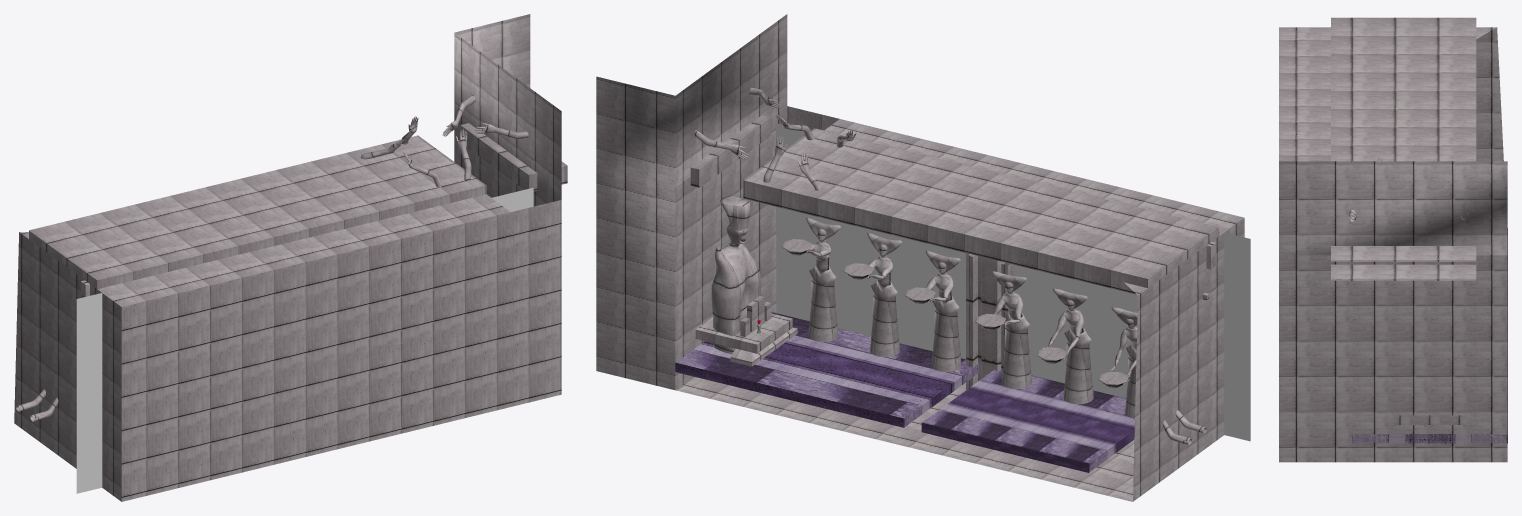
File: Capilla_assets.fbx
The picture shows the model from 3 angles, left to right: view 1: azimuth 30°, elevation 25°; view 2: azimuth 150°, elevation 25°; view 3: azimuth 270°, elevation 25°; orthographic projection. The views are drawn at different scales.
Parts seen in each view (by area): view 1: Capilla_background, Capilla_bloque_techo, Capilla_Fondonegro, Capilla_bloque; view 2: Capilla_background, Capilla_bloque_techo, Capilla_Fondonegro, Capilla_bloque_suelo.001, Capilla_bloque_suelo, Capilla_Abadesa, Capilla_ArcoAncho, Capilla_altar, Capilla_monja.005, Capilla_monja.004, Capilla_monja.003, Capilla_monja.002 (+3 smaller); view 3: Capilla_background, Capilla_bloque_techo, Capilla_bloque, Capilla_bloque_suelo.001, Capilla_altar.
Boxes of the visible parts, x1,y1,x2,y2 form: Capilla_background: [14, 14, 561, 501]; Capilla_bloque_techo: [29, 135, 486, 289]; Capilla_Fondonegro: [76, 187, 533, 493]; Capilla_bloque: [460, 123, 567, 191]; Capilla_background: [596, 14, 1244, 501]; Capilla_bloque_techo: [743, 128, 1219, 294]; Capilla_Fondonegro: [775, 123, 1250, 441]; Capilla_bloque_suelo.001: [675, 312, 978, 427]; Capilla_bloque_suelo: [921, 370, 1134, 472]; Capilla_Abadesa: [711, 196, 761, 354]; Capilla_ArcoAncho: [965, 253, 1013, 389]; Capilla_altar: [695, 296, 797, 366]; Capilla_monja.005: [1041, 288, 1093, 404]; Capilla_monja.004: [867, 233, 902, 356]; Capilla_monja.003: [925, 250, 961, 371]; Capilla_monja.002: [982, 271, 1031, 389]; Capilla_background: [1279, 27, 1507, 462]; Capilla_bloque_techo: [1331, 17, 1476, 161]; Capilla_bloque: [1331, 246, 1476, 280]; Capilla_bloque_suelo.001: [1352, 320, 1507, 443]; Capilla_altar: [1393, 415, 1466, 424].
Size of the model in its own units: 6404 by 3210 by 2204.
